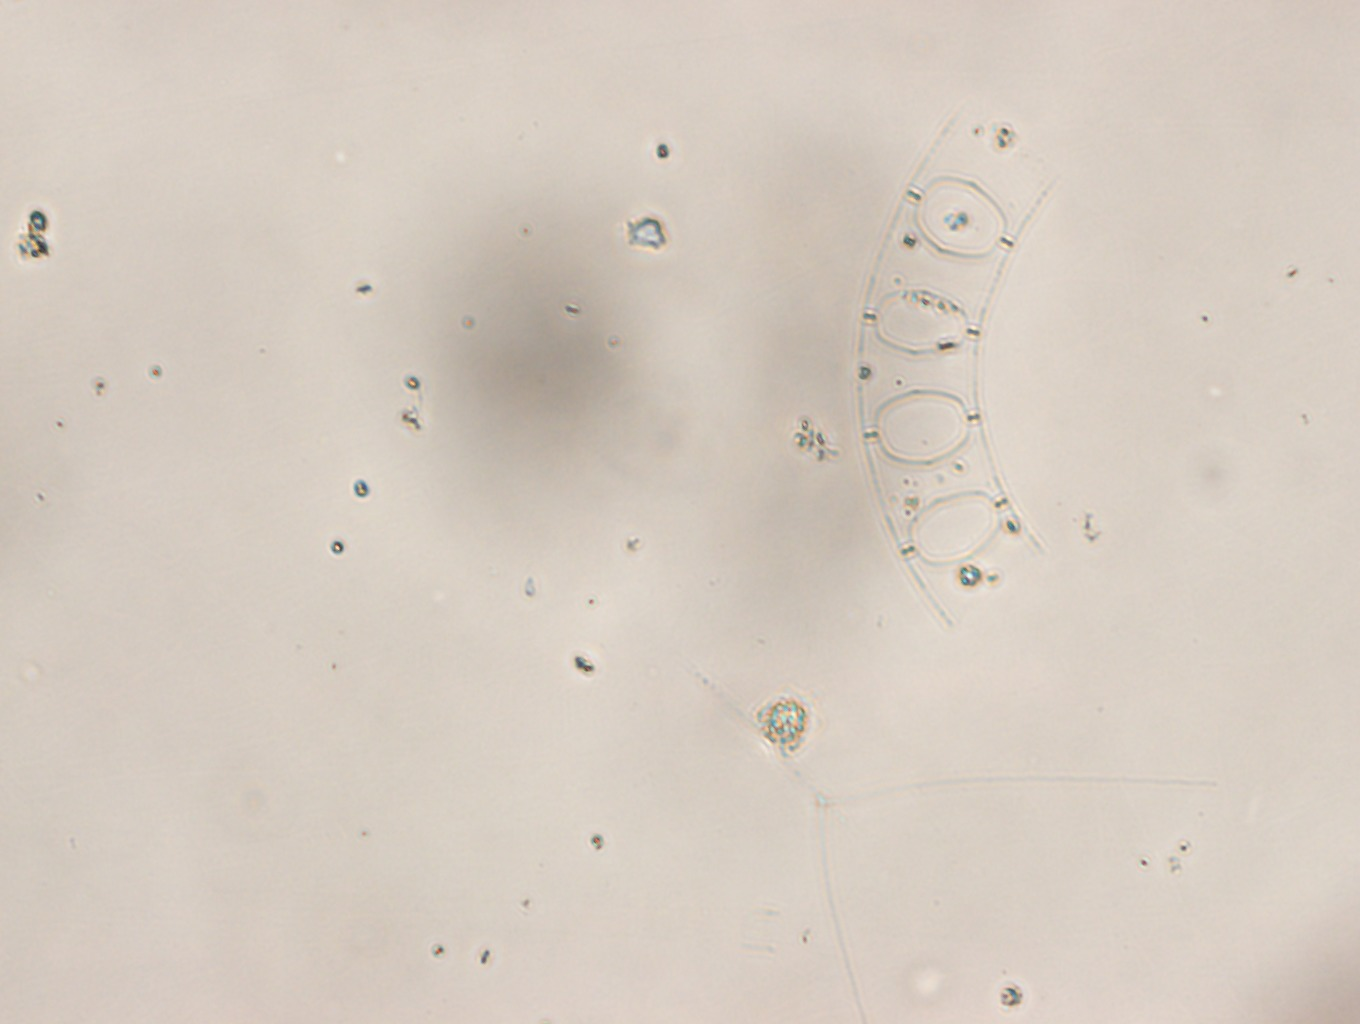eucampia: (855, 100, 1060, 630)
